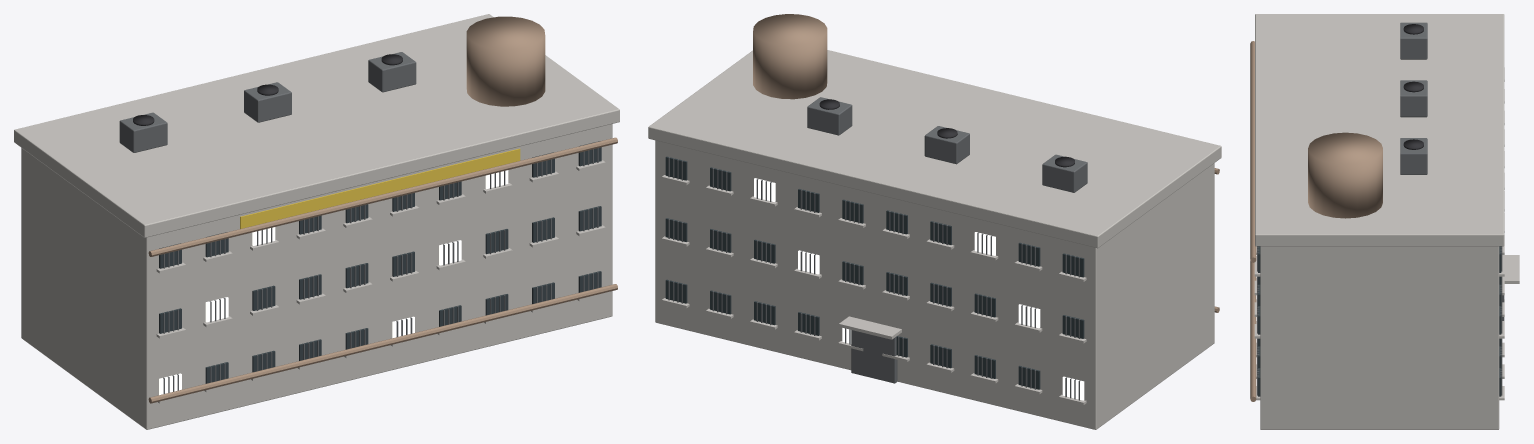
The model's file is prison_block.glb.
3 views of the same model, side by side, from view 1: azimuth 30°, elevation 25°; view 2: azimuth 150°, elevation 25°; view 3: azimuth 270°, elevation 25° (orthographic). The views are drawn at different scales.
Parts seen in each view (by area): view 1: prison_block; view 2: prison_block; view 3: prison_block.
Part boxes in pixels (<box>): prison_block: <box>14,14,619,429</box>; prison_block: <box>648,14,1221,429</box>; prison_block: <box>1250,14,1519,429</box>.
Bounding box in the file's own units: 30.6 × 16.35 × 15.78.
